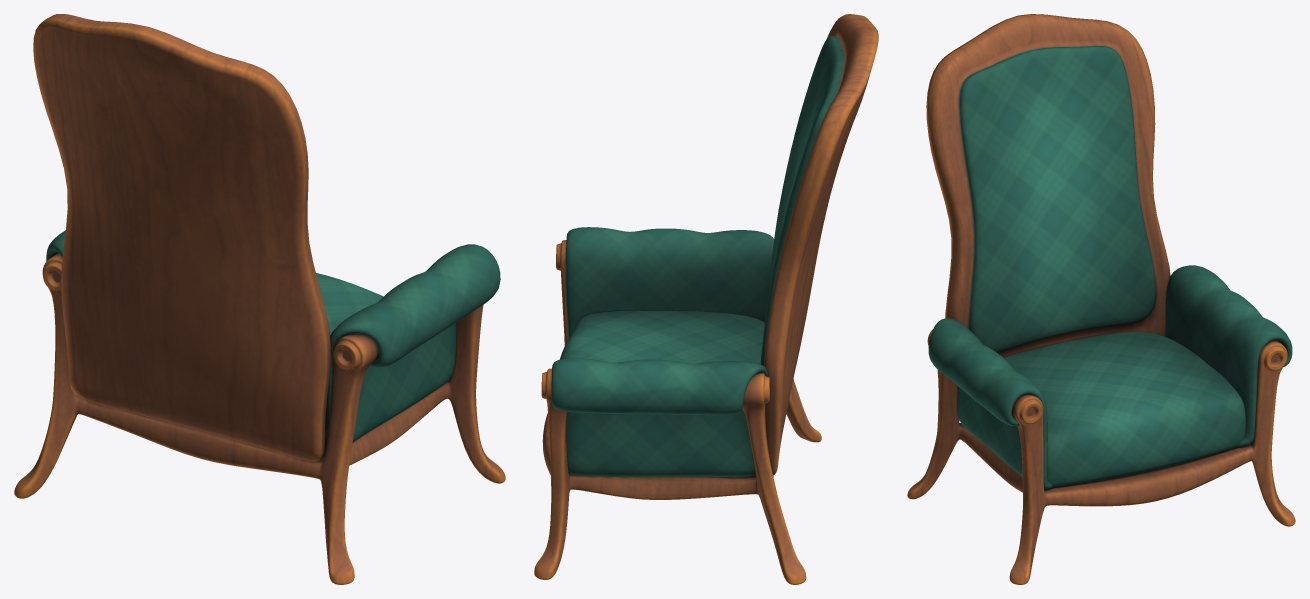
File: sofa-chair.glb
3 views of the same model, side by side, from view 1: azimuth 30°, elevation 25°; view 2: azimuth 150°, elevation 25°; view 3: azimuth 270°, elevation 25° (orthographic). The views are drawn at different scales.
Parts seen in each view (by area): view 1: chair_00_0.001; view 2: chair_00_0.001; view 3: chair_00_0.001.
Boxes of the visible parts, x1,y1,x2,y2 form: chair_00_0.001: (14, 14, 505, 584); chair_00_0.001: (534, 14, 878, 584); chair_00_0.001: (907, 14, 1295, 584).
Size of the model in its own units: 0.4818 by 0.6202 by 0.5092.
Materials: 1 (1 with a texture image).
